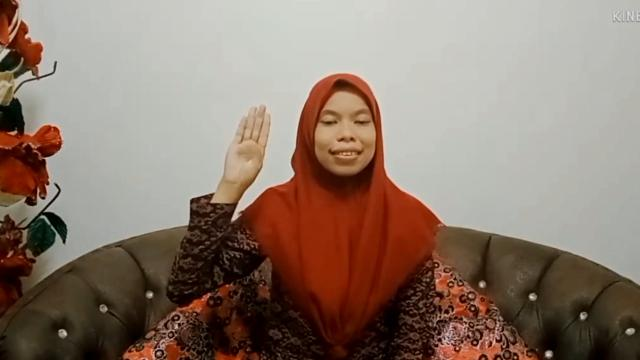B: (224, 104, 272, 192)
